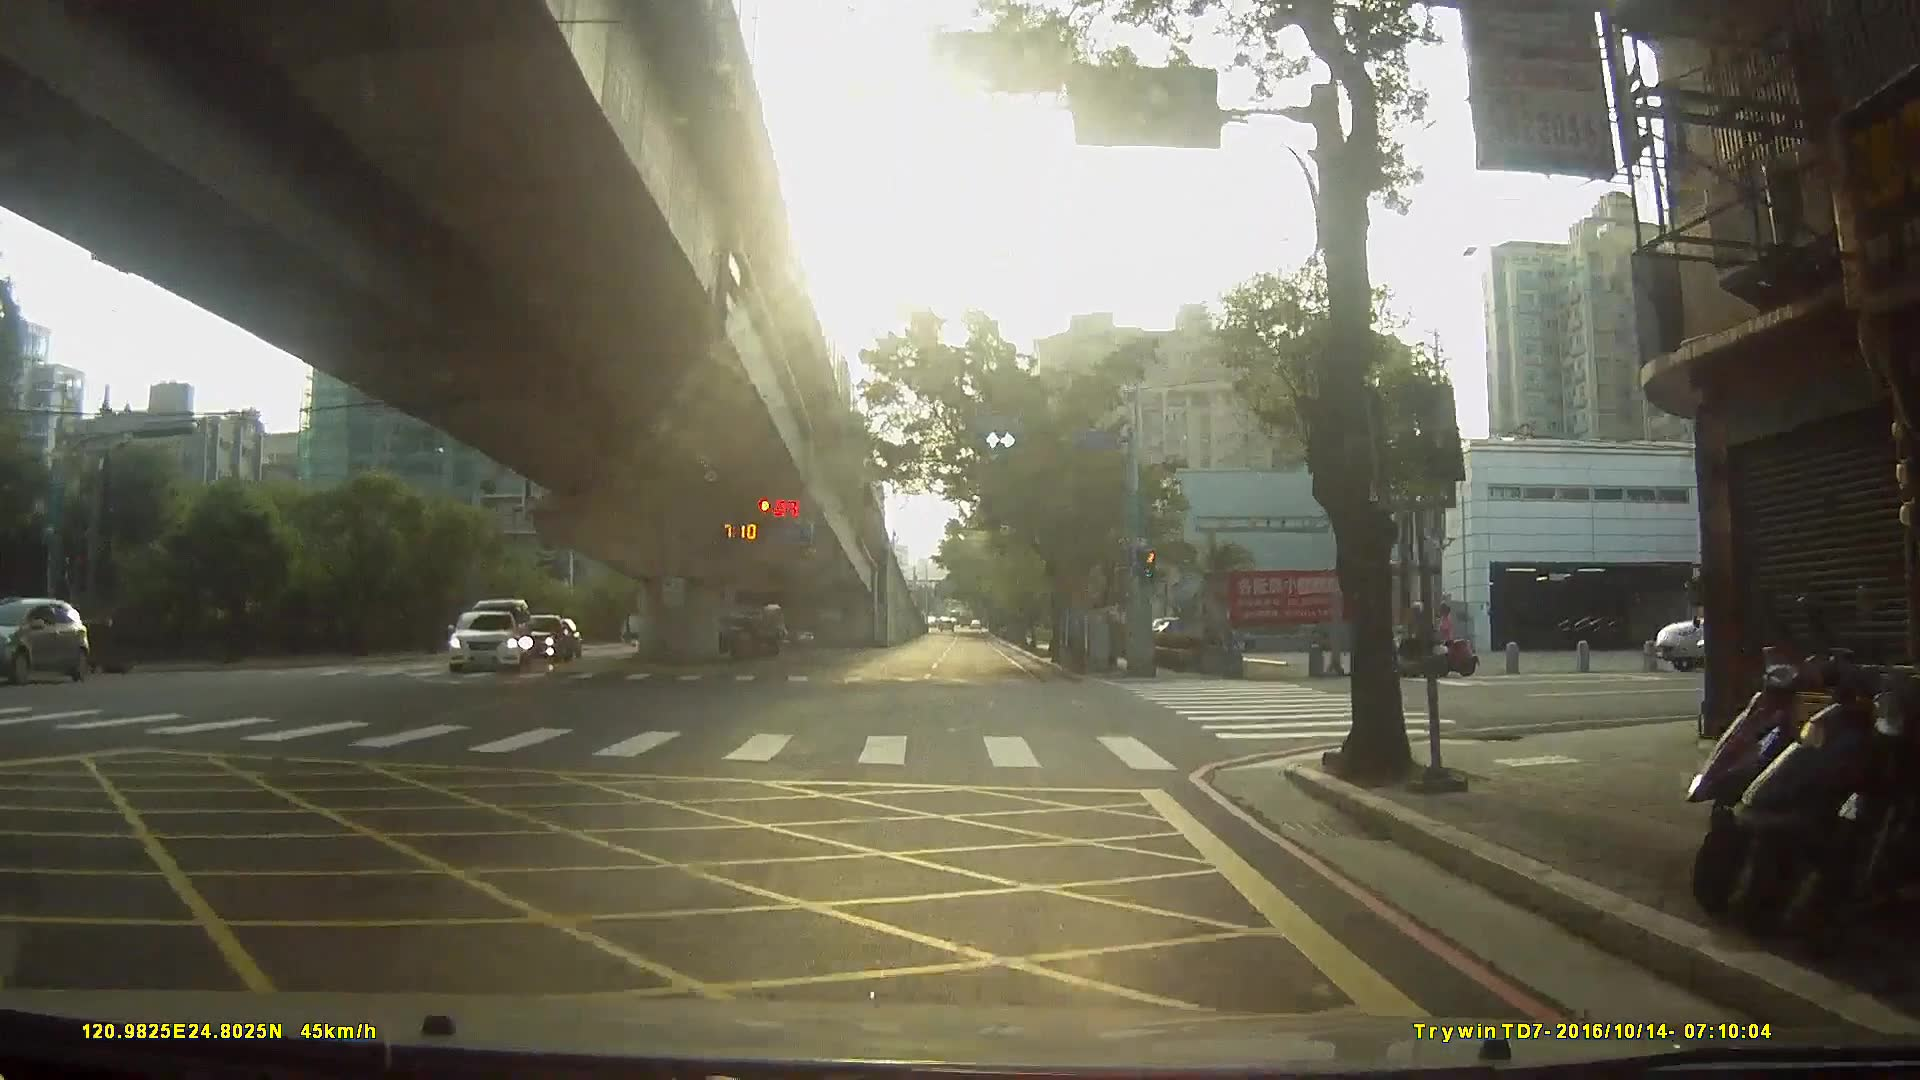rider: (1380, 602, 1454, 682)
vehicle: (1658, 590, 1836, 675), (1, 596, 93, 686), (439, 607, 519, 674), (689, 612, 784, 663), (506, 614, 572, 663)
